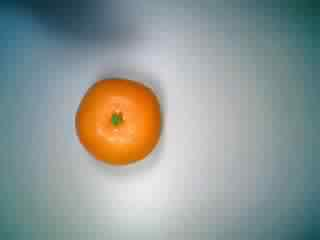orange: (70, 73, 167, 170)
